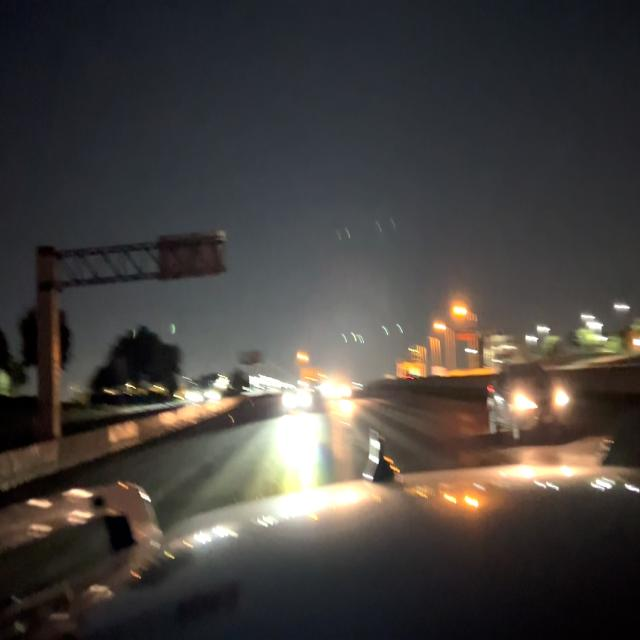back-of-sign: (157, 230, 229, 282)
